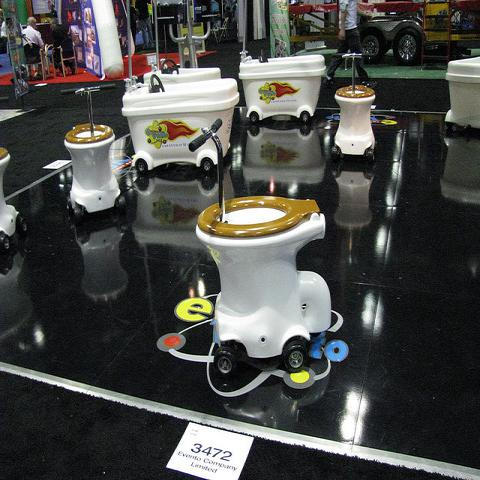car: (358, 12, 423, 65)
